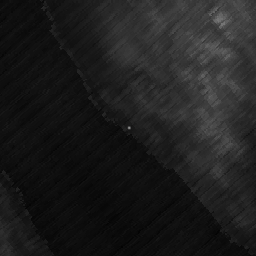Target: (125, 124, 132, 130)
